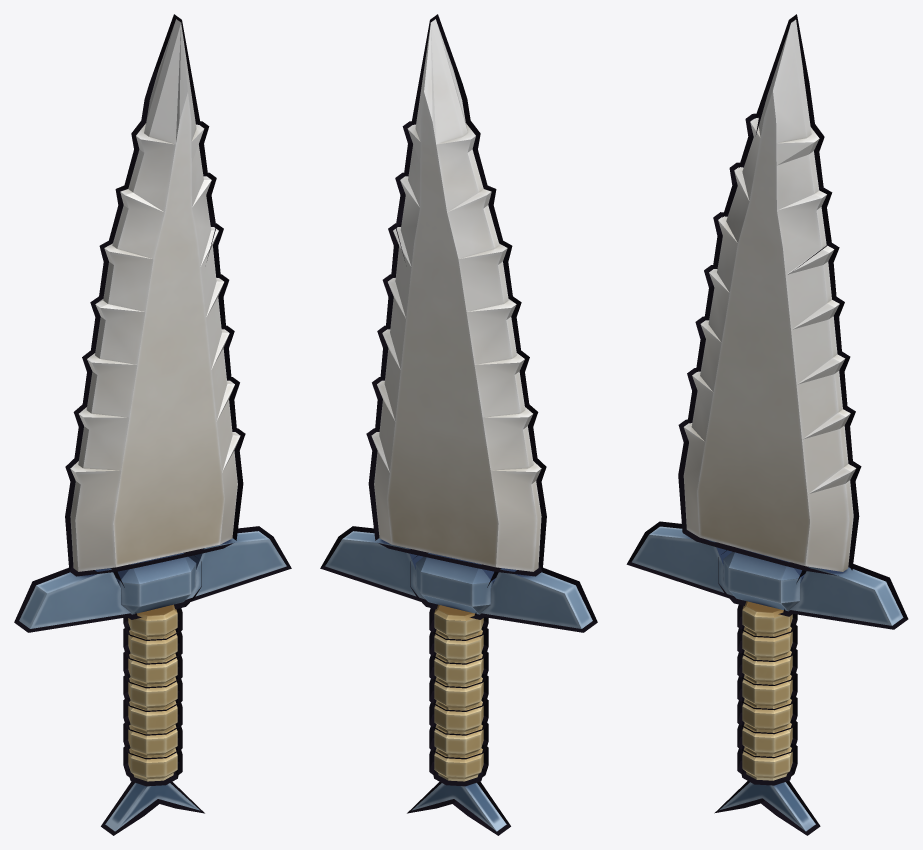
The model's file is SharkToothSword.fbx.
The picture shows the model from 3 angles, left to right: view 1: azimuth 30°, elevation 25°; view 2: azimuth 150°, elevation 25°; view 3: azimuth 330°, elevation 25°; orthographic projection.
Parts seen in each view (by area): view 1: SharkToothSword, SharkToothSwordOutline; view 2: SharkToothSword, SharkToothSwordOutline; view 3: SharkToothSword, SharkToothSwordOutline.
Boxes of the visible parts, x1,y1,x2,y2 form: SharkToothSword: (19, 19, 286, 831); SharkToothSwordOutline: (14, 14, 291, 835); SharkToothSword: (325, 19, 592, 831); SharkToothSwordOutline: (320, 14, 597, 835); SharkToothSword: (632, 19, 903, 831); SharkToothSwordOutline: (626, 14, 908, 835).
Size of the model in its own units: 123 by 356 by 28.26.
Materials: 2 (1 with a texture image).
